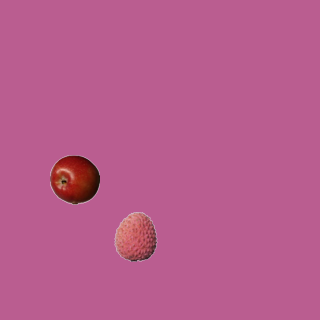Apple Braeburn: (49, 154, 99, 204)
Lychee: (110, 211, 160, 261)
